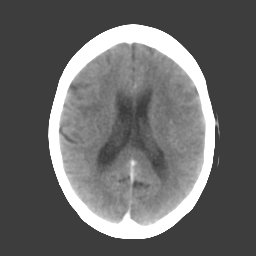ischemic: (153, 83, 199, 141)
